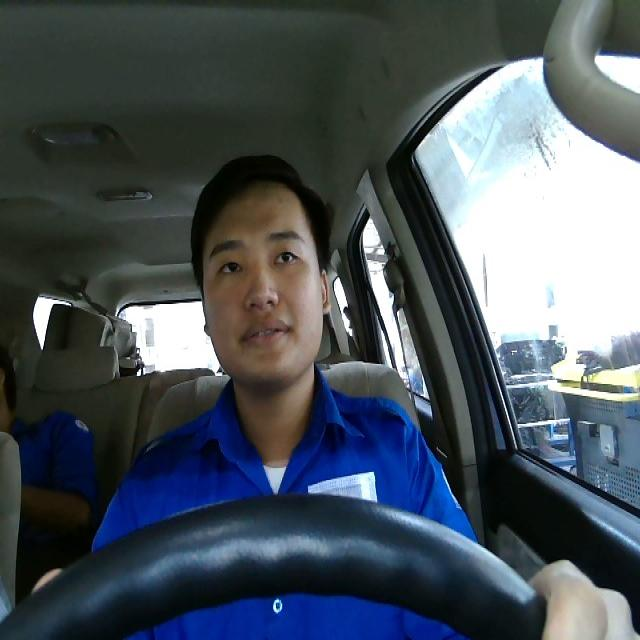yarning: (199, 178, 329, 386)
